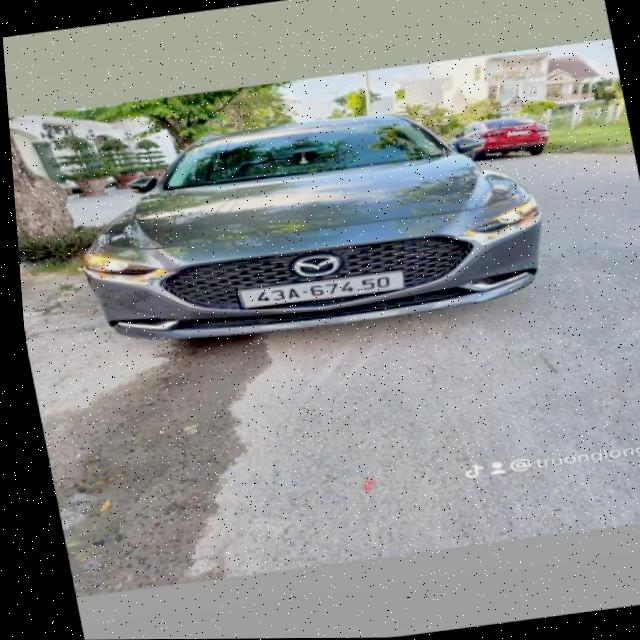car: (52, 94, 571, 354), (447, 105, 554, 163)
plate: (230, 265, 419, 317)
